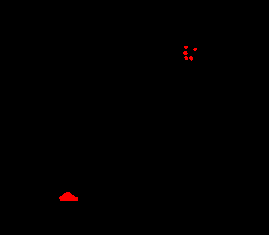Target: (59, 192, 78, 201), (183, 51, 188, 55), (189, 56, 193, 61), (184, 56, 188, 60), (184, 46, 188, 49), (193, 48, 197, 51)
